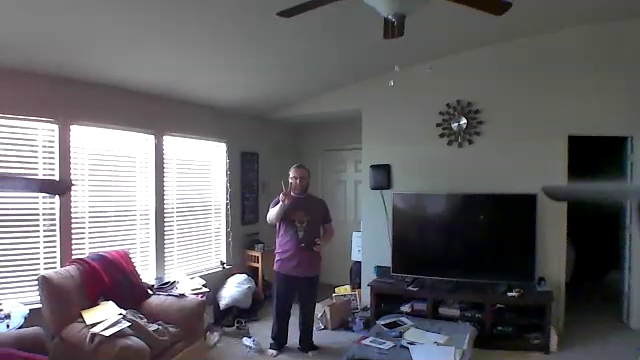peace: (275, 176, 295, 211)
